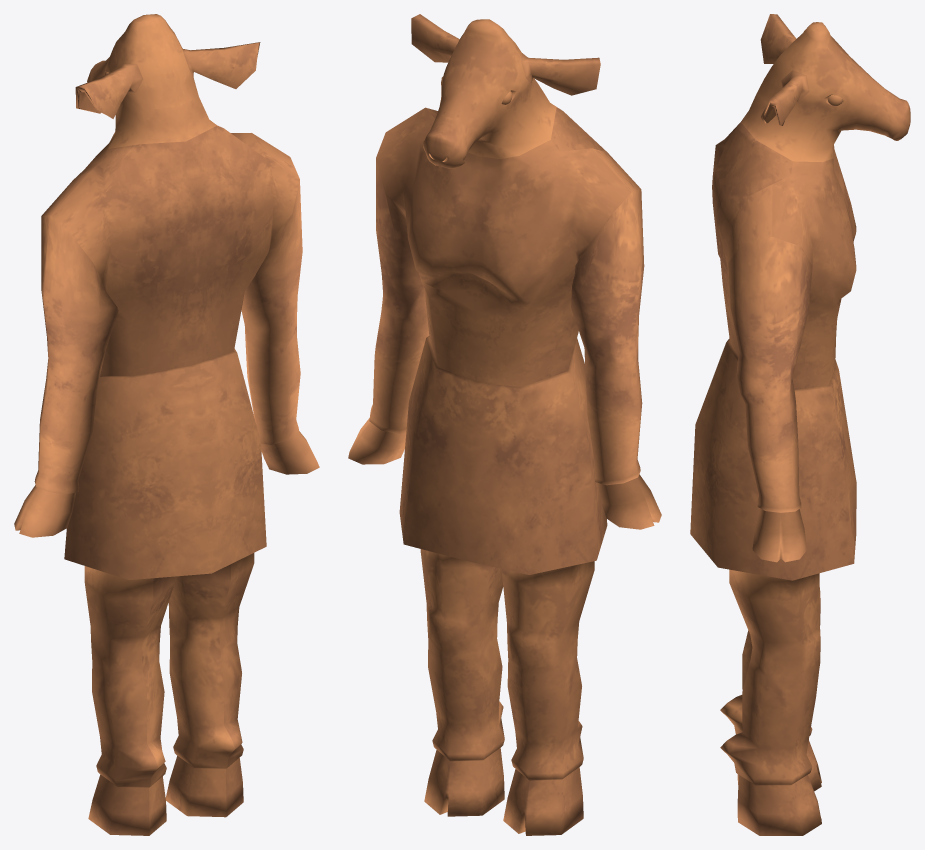
File: cowStatue.fbx
3 views of the same model, side by side, from view 1: azimuth 30°, elevation 25°; view 2: azimuth 150°, elevation 25°; view 3: azimuth 270°, elevation 25° (orthographic). The views are drawn at different scales.
Visible parts, largest first — view 1: CowManUVD:Cow1; view 2: CowManUVD:Cow1; view 3: CowManUVD:Cow1.
Boxes of the visible parts, x1,y1,x2,y2 form: CowManUVD:Cow1: (14, 14, 319, 835); CowManUVD:Cow1: (348, 14, 661, 835); CowManUVD:Cow1: (690, 14, 910, 835).
Bounding box in the file's own units: 8.92 × 22.36 × 5.74.
